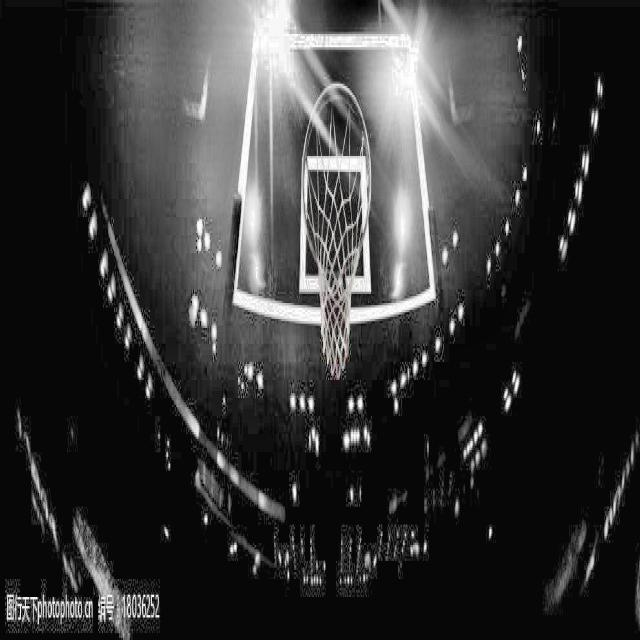rim: (302, 79, 372, 378)
